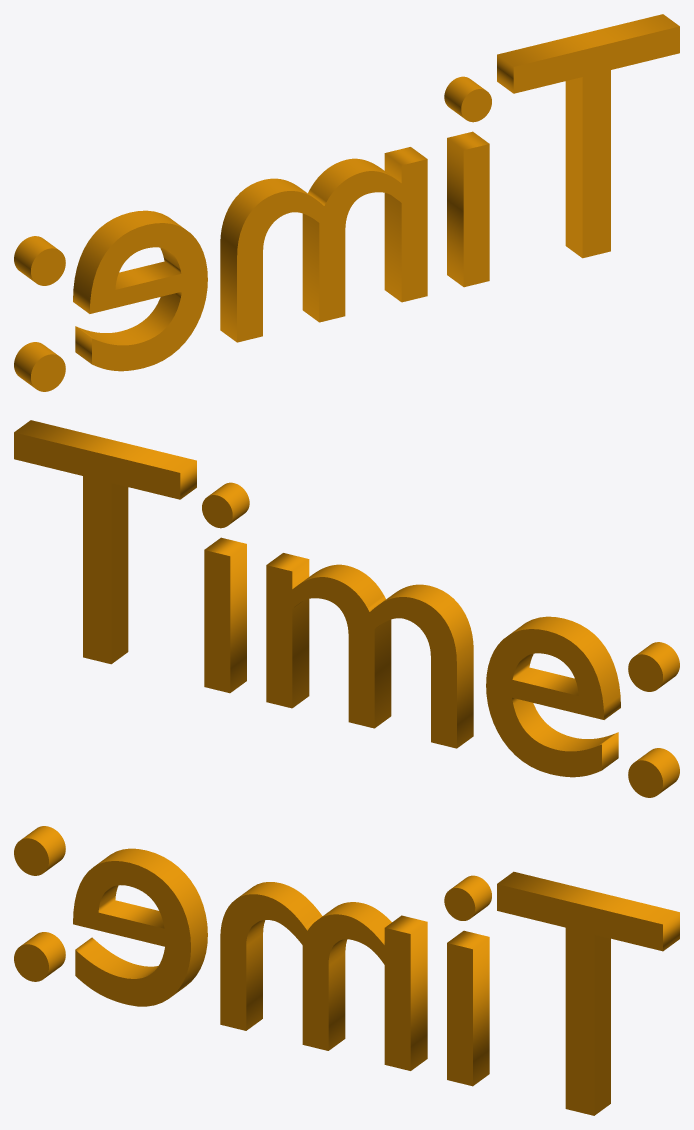
The model's file is time.glb.
The picture shows the model from 3 angles, top to bottom: view 1: azimuth 30°, elevation 25°; view 2: azimuth 150°, elevation 25°; view 3: azimuth 330°, elevation 25°; orthographic projection.
Visible parts, largest first — view 1: テキスト; view 2: テキスト; view 3: テキスト.
Part boxes in pixels (x1,y1,x2,y2): テキスト: (14, 14, 679, 391); テキスト: (14, 420, 679, 797); テキスト: (14, 826, 679, 1115).
Bounding box in the file's own units: 2.23 × 0.691 × 0.1.
